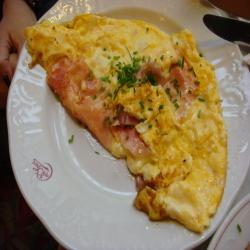omelette: (26, 18, 232, 236)
